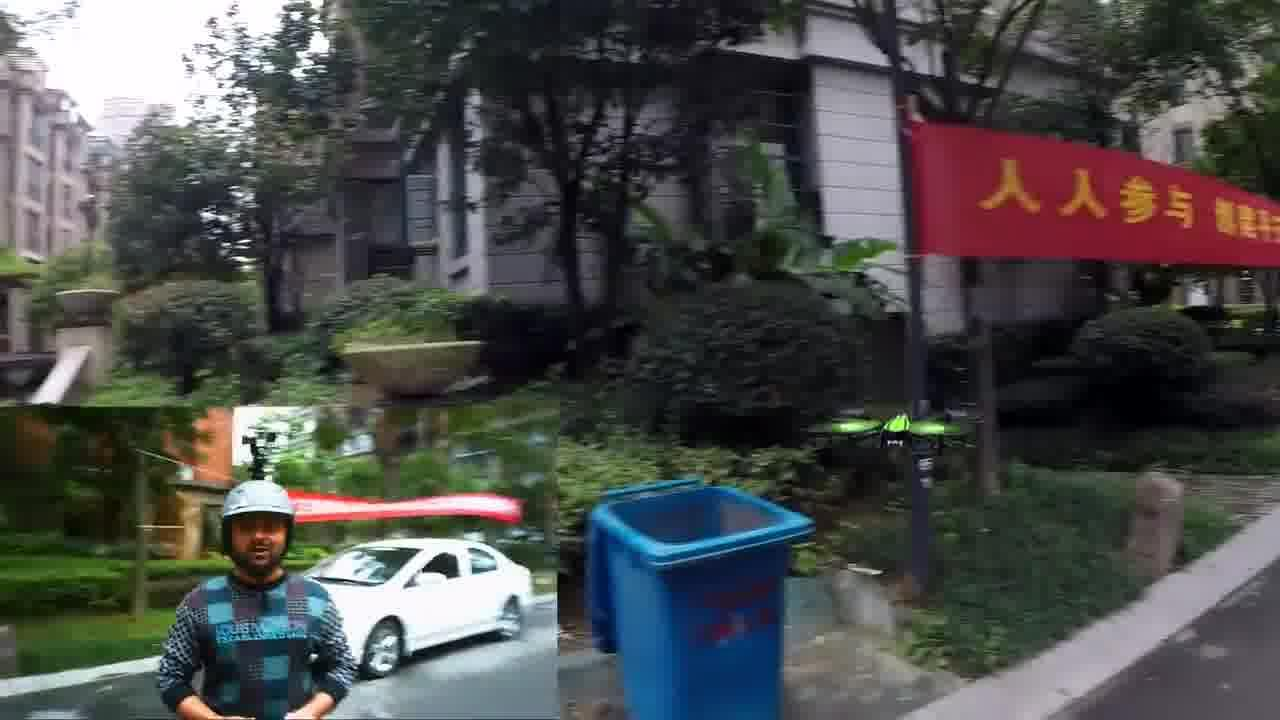drone: (785, 385, 989, 483)
